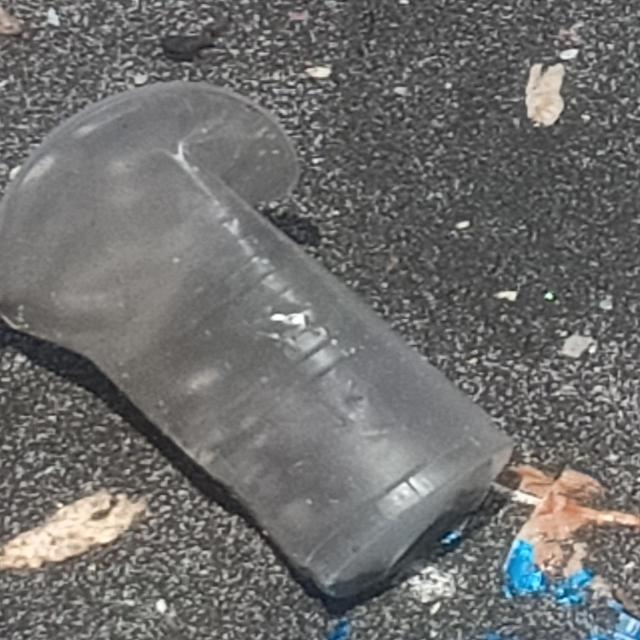plastic_waste: (1, 78, 520, 604)
